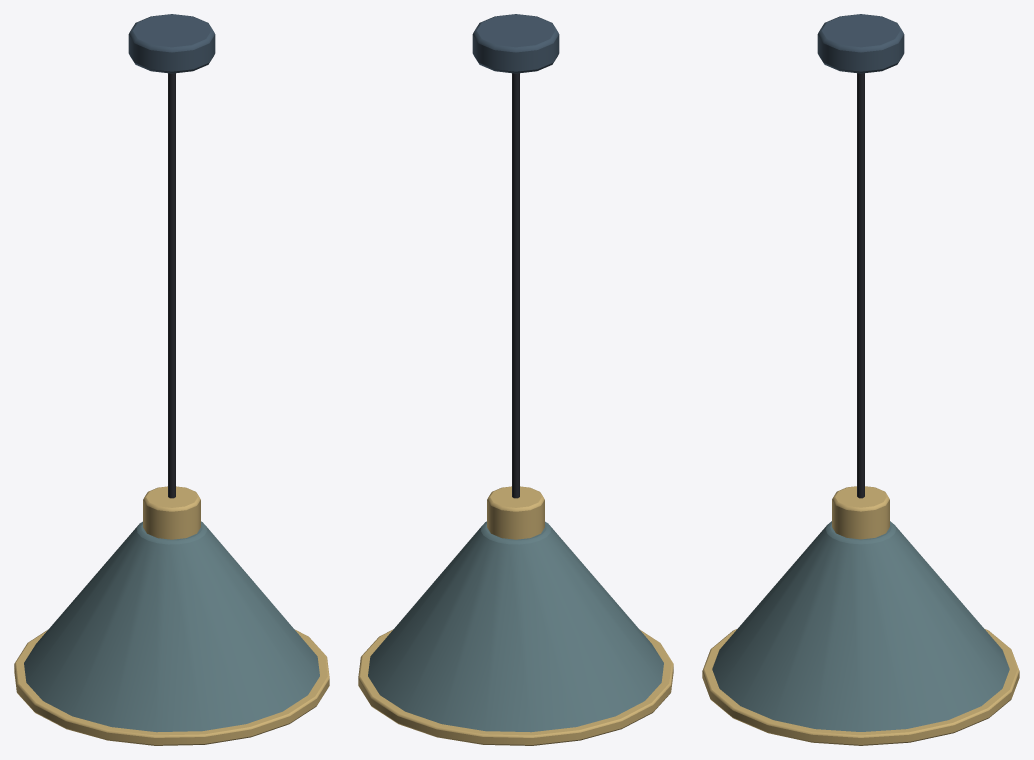
File: lamp_dining_lamp.fbx
3 views of the same model, side by side, from view 1: azimuth 30°, elevation 25°; view 2: azimuth 150°, elevation 25°; view 3: azimuth 270°, elevation 25° (orthographic).
Visible parts, largest first — view 1: lamp_dining_lamp; view 2: lamp_dining_lamp; view 3: lamp_dining_lamp.
Part boxes in pixels (x1=…): lamp_dining_lamp: x1=14, y1=14, x2=329, y2=745; lamp_dining_lamp: x1=358, y1=14, x2=673, y2=745; lamp_dining_lamp: x1=702, y1=14, x2=1019, y2=745.
Size of the model in its own units: 0.33 by 0.33 by 0.745.
